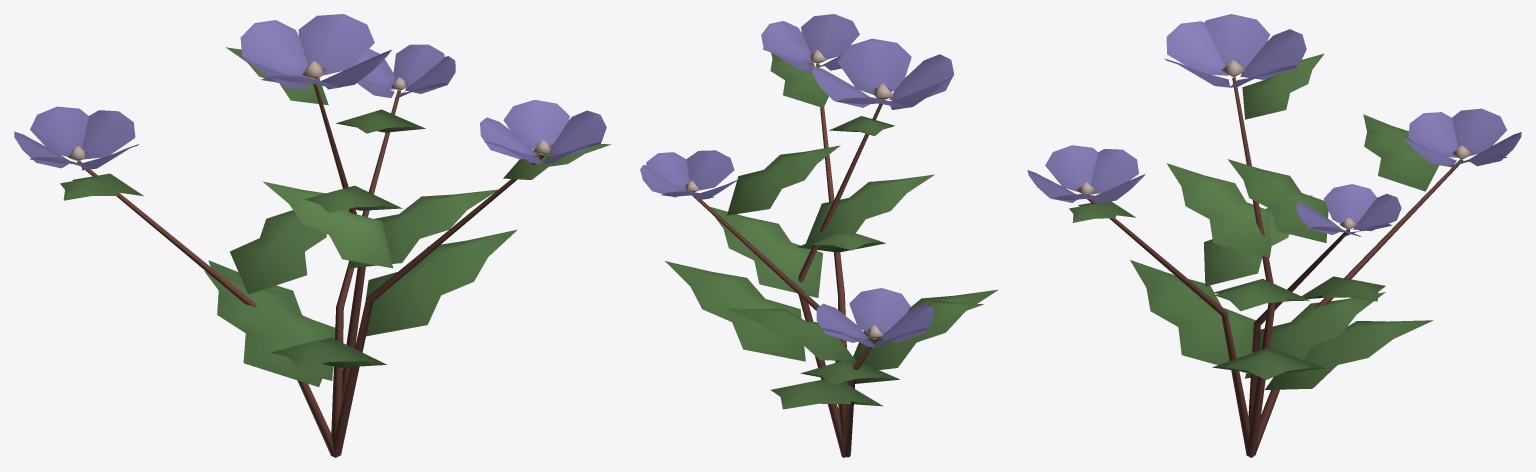
The model's file is meadow_cranesbill.glb.
3 renders of one model, left to right at view 1: azimuth 30°, elevation 25°; view 2: azimuth 150°, elevation 25°; view 3: azimuth 270°, elevation 25°, orthographic. The views are drawn at different scales.
Visible parts, largest first — view 1: meadow_cranesbill; view 2: meadow_cranesbill; view 3: meadow_cranesbill.
Boxes of the visible parts, bbox=[...] form: meadow_cranesbill: bbox=[14, 14, 611, 457]; meadow_cranesbill: bbox=[640, 14, 998, 457]; meadow_cranesbill: bbox=[1027, 14, 1521, 457].
Size of the model in its own units: 0.3997 by 0.4045 by 0.4562.
